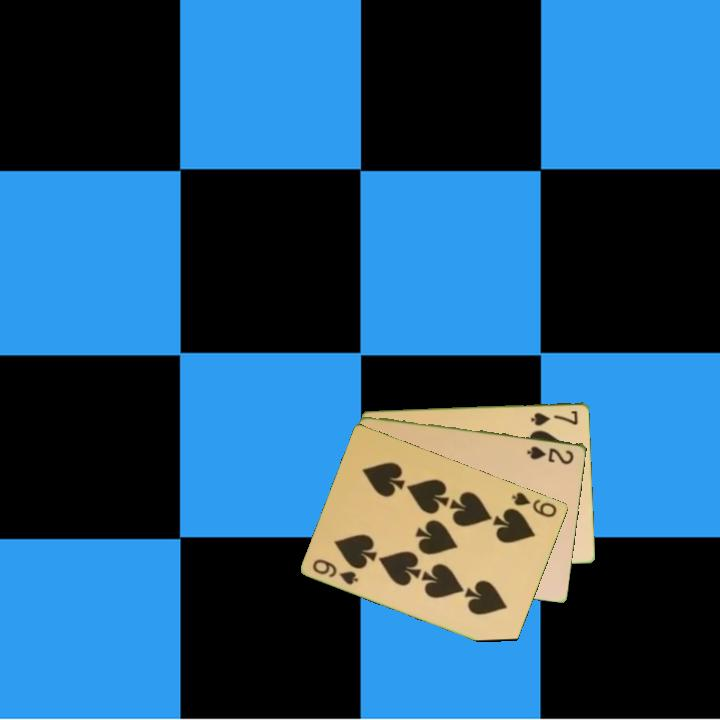2s: (524, 442, 577, 467)
7s: (528, 407, 581, 428)
9s: (309, 555, 361, 588), (508, 488, 560, 520)
